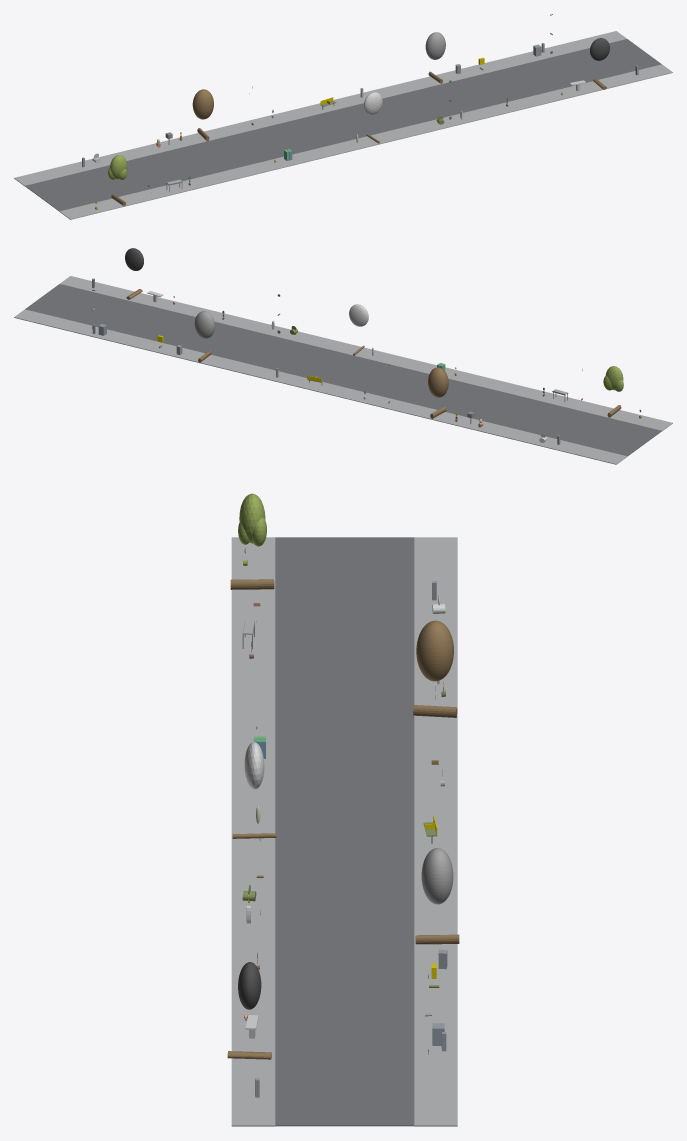
3 renders of one model, top to bottom at view 1: azimuth 30°, elevation 25°; view 2: azimuth 150°, elevation 25°; view 3: azimuth 270°, elevation 25°, orthographic. The views are drawn at different scales.
Visible parts, largest first — view 1: road_slab, sidewalk_left, sidewalk_right, inst_0013, inst_0015, inst_0012, inst_0016, inst_0014; view 2: road_slab, sidewalk_right, sidewalk_left, inst_0013, inst_0015, inst_0012, inst_0016, inst_0014; view 3: road_slab, sidewalk_left, sidewalk_right, inst_0013, inst_0015, inst_0012, inst_0016, inst_0014.
Boxes of the visible parts, bbox=[...] form: road_slab: bbox=[25, 39, 661, 211]; sidewalk_left: bbox=[59, 64, 672, 219]; sidewalk_right: bbox=[14, 31, 626, 186]; inst_0013: bbox=[192, 89, 213, 141]; inst_0015: bbox=[425, 32, 445, 83]; inst_0012: bbox=[108, 155, 127, 206]; inst_0016: bbox=[590, 38, 609, 89]; inst_0014: bbox=[363, 92, 382, 143]; road_slab: bbox=[25, 284, 661, 456]; sidewalk_right: bbox=[14, 309, 627, 464]; sidewalk_left: bbox=[60, 276, 672, 431]; inst_0013: bbox=[428, 367, 448, 418]; inst_0015: bbox=[194, 311, 214, 362]; inst_0012: bbox=[603, 366, 623, 417]; inst_0016: bbox=[125, 248, 143, 299]; inst_0014: bbox=[349, 304, 368, 355]; road_slab: bbox=[275, 537, 414, 1126]; sidewalk_left: bbox=[231, 537, 275, 1126]; sidewalk_right: bbox=[414, 537, 457, 1126]; inst_0013: bbox=[413, 620, 457, 717]; inst_0015: bbox=[415, 848, 459, 944]; inst_0012: bbox=[230, 493, 274, 589]; inst_0016: bbox=[227, 962, 271, 1059]; inst_0014: bbox=[232, 742, 276, 838].
Size of the model in its own units: 80 by 6.08 by 13.32.
